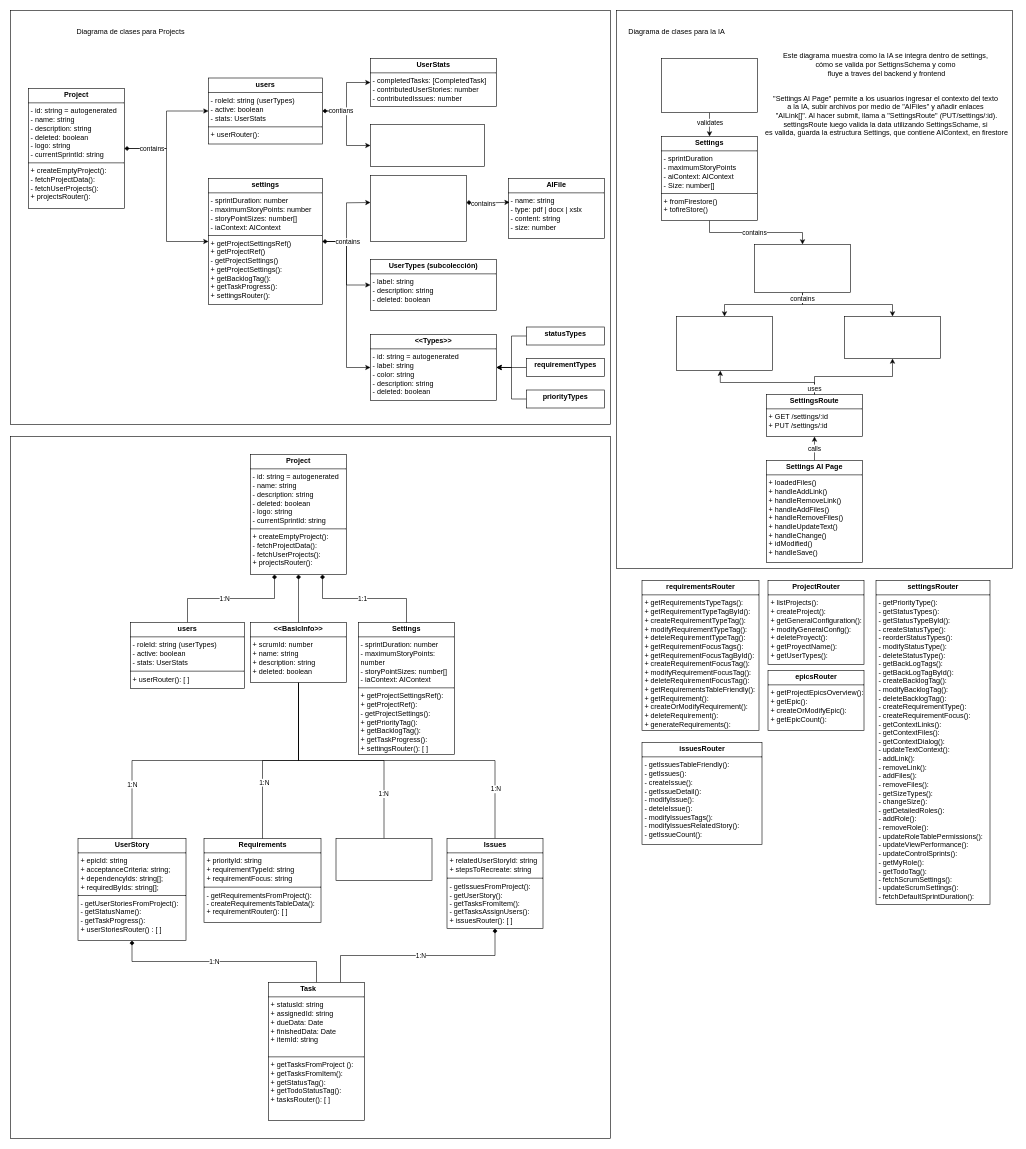
Some shapes in this 1026 by 1149 pixel diagram are drawn without their labels. Each missing label, with the centre of its shape:
AIContext - text: string - files: AIFiles[] - links: AILink[]: the point at 802,268
AIFile - name: string - type: string - content: string - size: number: the point at 724,343
AILink - link: string - content: string: the point at 892,337
CompletedTask - taskId: string - finishedDate: Date: the point at 427,145
Epics + getEpic (): + epicRouter(): [ ]: the point at 383,859
SettingsSchema + sprintDuration + maximumStoryPoints + aiContext + Size: the point at 709,85
users - text: string - files: [AIFile] - links: string[] + aiRouter():: the point at 418,208
